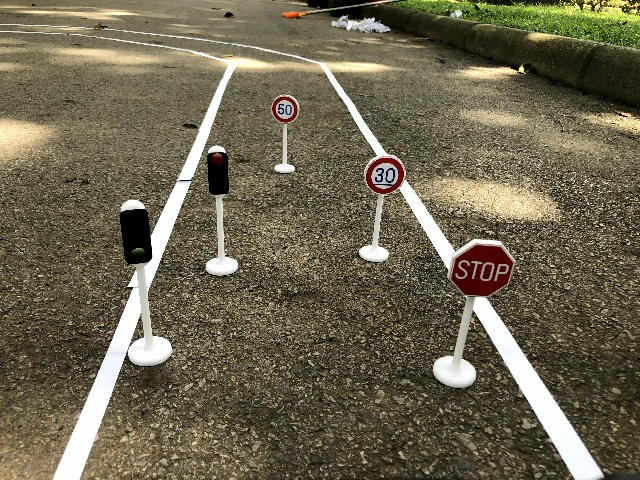Green Traffic Light: (115, 191, 162, 272)
Red Traffic Light: (201, 137, 238, 205)
Speed Limit 30: (356, 150, 413, 200)
Speed Limit 50: (267, 90, 304, 128)
Stop Sign: (441, 233, 521, 305)
